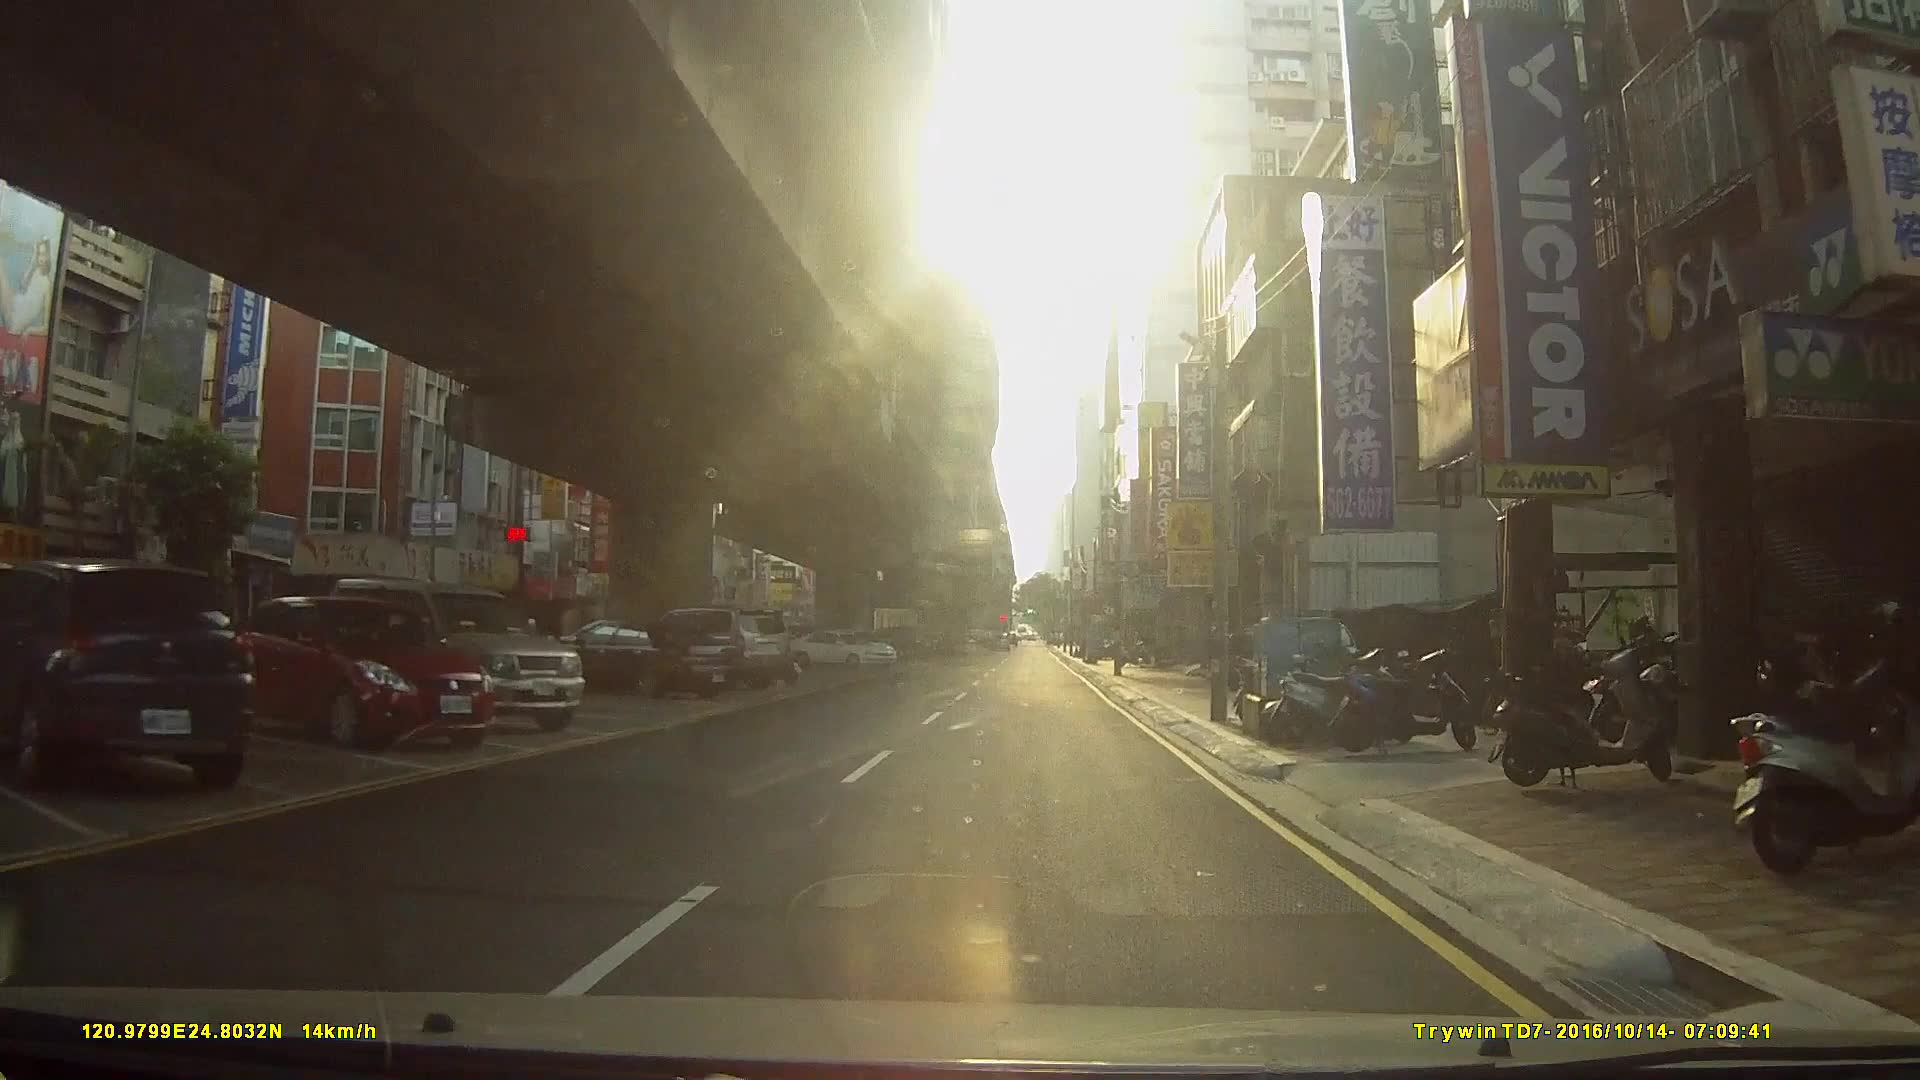vehicle: (0, 554, 258, 789), (324, 574, 585, 733), (231, 591, 496, 744), (553, 615, 746, 698), (632, 604, 793, 691), (787, 625, 899, 667)
